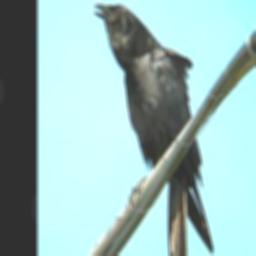Crow: (93, 0, 215, 256)
